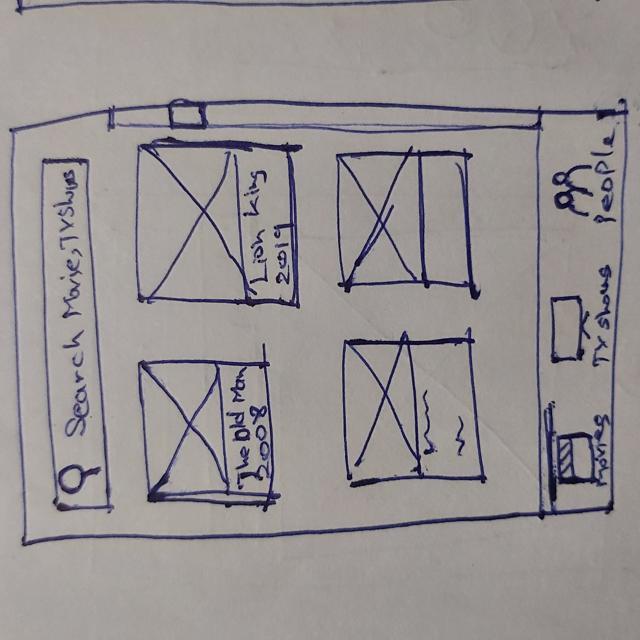BottomNavBar: (537, 106, 617, 513)
BottomNavItems: (534, 240, 616, 386), (536, 395, 616, 514), (539, 125, 623, 234)
CardView: (131, 140, 306, 308), (133, 353, 279, 510), (331, 144, 481, 295), (340, 341, 486, 483)
EditText: (39, 157, 116, 512)
GridListView: (124, 137, 529, 513)
Icon: (548, 292, 590, 368), (552, 166, 595, 221), (556, 431, 595, 485), (55, 466, 103, 497)
Image: (134, 143, 246, 307), (138, 357, 230, 504), (333, 150, 425, 289), (343, 338, 416, 478)
MainLayout: (5, 95, 630, 548)
ScrollBar: (111, 102, 546, 136)
TextView: (246, 166, 274, 287), (229, 365, 252, 487), (593, 134, 616, 228), (592, 265, 613, 367), (248, 404, 272, 482), (269, 220, 293, 290), (419, 383, 437, 461), (595, 414, 610, 486), (451, 416, 468, 460)
